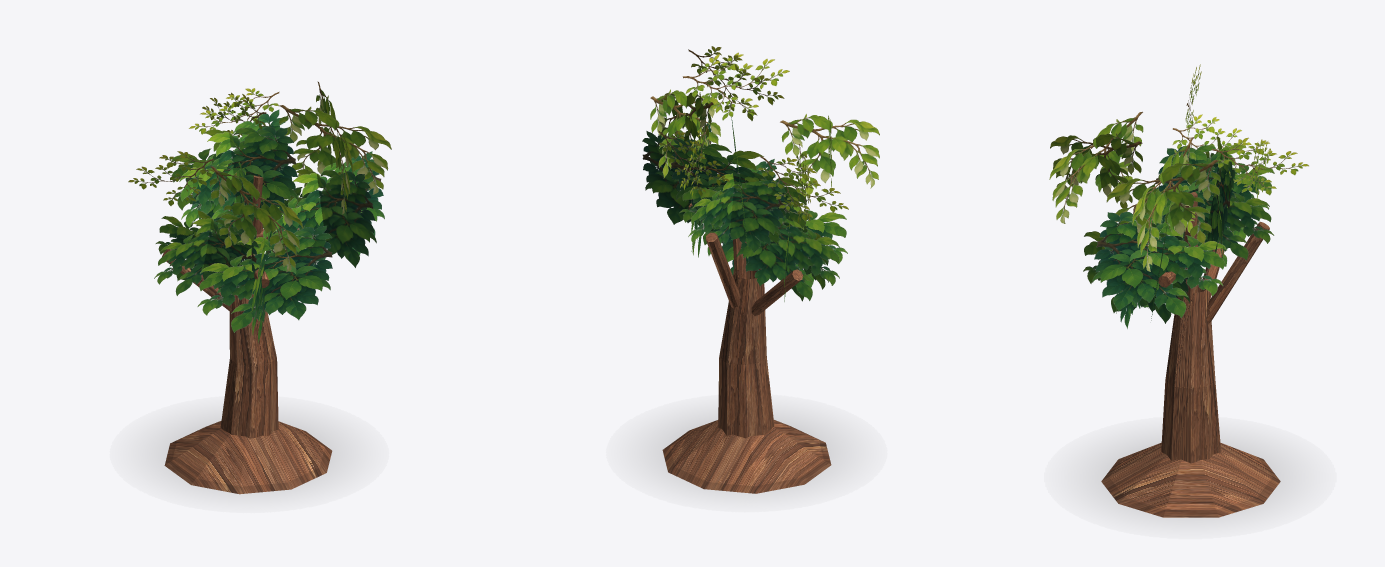
File: tree-broadleaf-young.glb
3 views of the same model, side by side, from view 1: azimuth 30°, elevation 25°; view 2: azimuth 150°, elevation 25°; view 3: azimuth 270°, elevation 25° (orthographic). The views are drawn at different scales.
Visible parts, largest first — view 1: flare, leafcard.013, trunk, leafcard.017, leafcard.005, leafcard.008, leafcard.016, leafcard.018, leafcard.006, leafcard.001, leafcard.002, leafcard.007 (+4 smaller); view 2: flare, trunk, leafcard.002, leafcard.018, leafcard.015, leafcard.009, leafcard.006, leafcard.007, leafcard.010, leafcard, leafcard.014, leafcard.004 (+5 smaller); view 3: flare, leafcard.005, trunk, leafcard.007, leafcard.016, leafcard.017, leafcard.015, leafcard.008, leafcard.010, leafcard.018, leafcard.011, branch.003 (+2 smaller).
Boxes of the visible parts, left/top/right/bottom form: flare: left=164, top=420, right=332, bottom=494; leafcard.013: left=197, top=225, right=332, bottom=332; trunk: left=220, top=294, right=278, bottom=438; leafcard.017: left=171, top=126, right=298, bottom=231; leafcard.005: left=281, top=169, right=376, bottom=267; leafcard.008: left=279, top=105, right=391, bottom=194; leafcard.016: left=209, top=166, right=303, bottom=272; leafcard.018: left=179, top=109, right=285, bottom=231; leafcard.006: left=263, top=151, right=384, bottom=264; leafcard.001: left=155, top=210, right=258, bottom=288; leafcard.002: left=154, top=204, right=257, bottom=295; leafcard.007: left=315, top=81, right=352, bottom=214; flare: left=662, top=420, right=831, bottom=493; trunk: left=718, top=269, right=774, bottom=438; leafcard.002: left=736, top=208, right=839, bottom=300; leafcard.018: left=670, top=138, right=810, bottom=244; leafcard.015: left=780, top=114, right=879, bottom=195; leafcard.009: left=679, top=177, right=785, bottom=252; leafcard.006: left=642, top=131, right=722, bottom=242; leafcard.007: left=650, top=89, right=722, bottom=178; leafcard.010: left=688, top=159, right=776, bottom=255; leafcard: left=682, top=52, right=789, bottom=120; leafcard.014: left=722, top=192, right=847, bottom=287; leafcard.004: left=757, top=155, right=848, bottom=221; flare: left=1101, top=442, right=1280, bottom=517; leafcard.005: left=1092, top=212, right=1226, bottom=318; trunk: left=1161, top=280, right=1221, bottom=463; leafcard.007: left=1106, top=160, right=1220, bottom=244; leafcard.016: left=1049, top=111, right=1143, bottom=223; leafcard.017: left=1156, top=144, right=1274, bottom=239; leafcard.015: left=1050, top=133, right=1142, bottom=208; leafcard.008: left=1132, top=137, right=1196, bottom=271; leafcard.010: left=1168, top=178, right=1274, bottom=260; leafcard.018: left=1205, top=136, right=1235, bottom=253; leafcard.011: left=1212, top=137, right=1308, bottom=195; branch.003: left=1206, top=221, right=1269, bottom=323.
Bounding box in the file's own units: 2.2 × 3.02 × 2.2.
5 materials, 5 textured.
